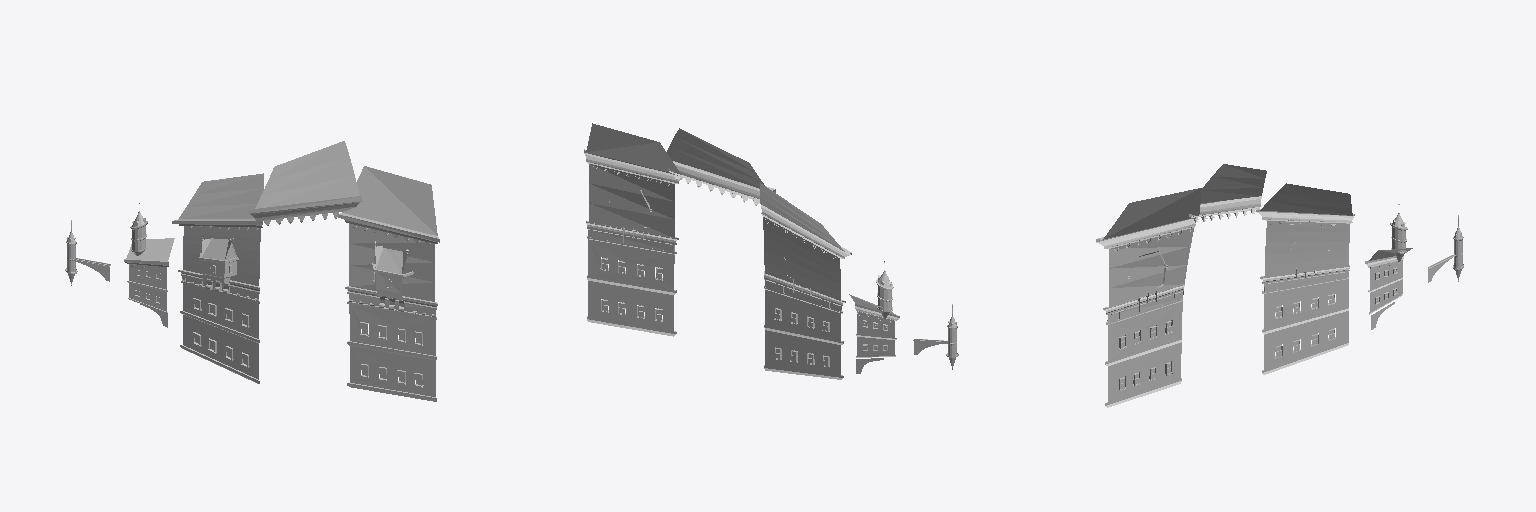
The model's file is ma_building_a.obj.
3 renders of one model, left to right at view 1: azimuth 30°, elevation 25°; view 2: azimuth 210°, elevation 25°; view 3: azimuth 270°, elevation 25°, orthographic.
Parts seen in each view (by area): view 1: ma_building_a; view 2: ma_building_a; view 3: ma_building_a.
Boxes of the visible parts, <box> form: ma_building_a: <box>65,141,439,401</box>; ma_building_a: <box>584,123,958,379</box>; ma_building_a: <box>1096,164,1463,407</box>.
Bounding box in the file's own units: 5999 × 6947 × 9544.